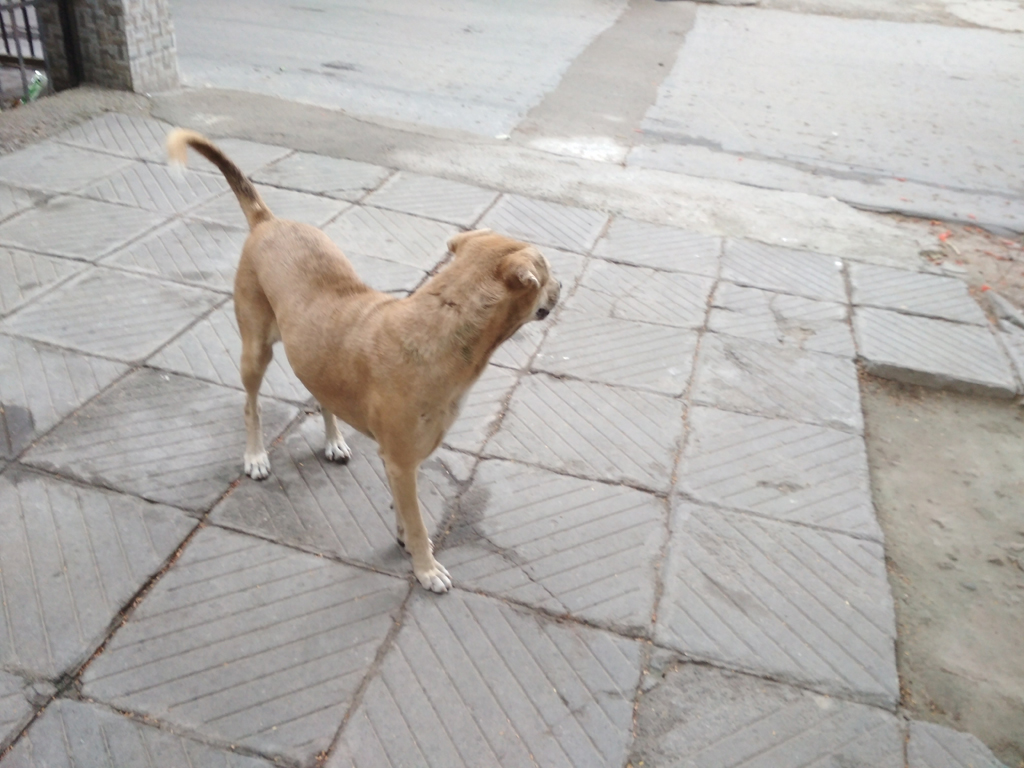dog: (166, 128, 565, 592)
